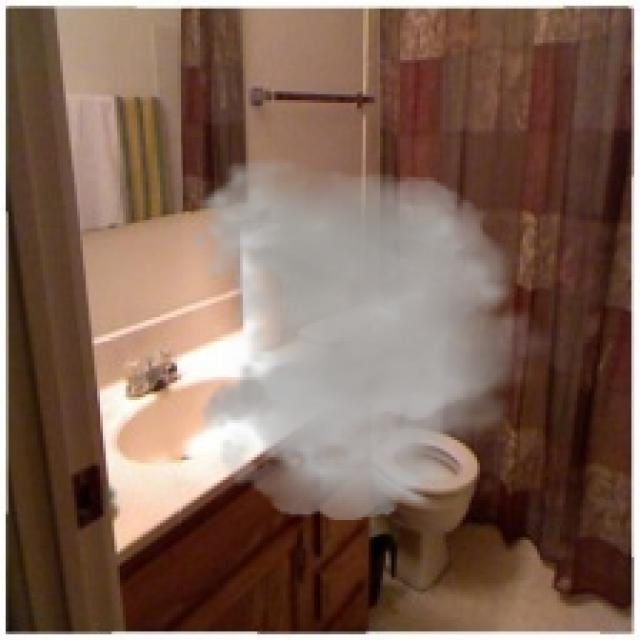smoke: (189, 157, 560, 520)
